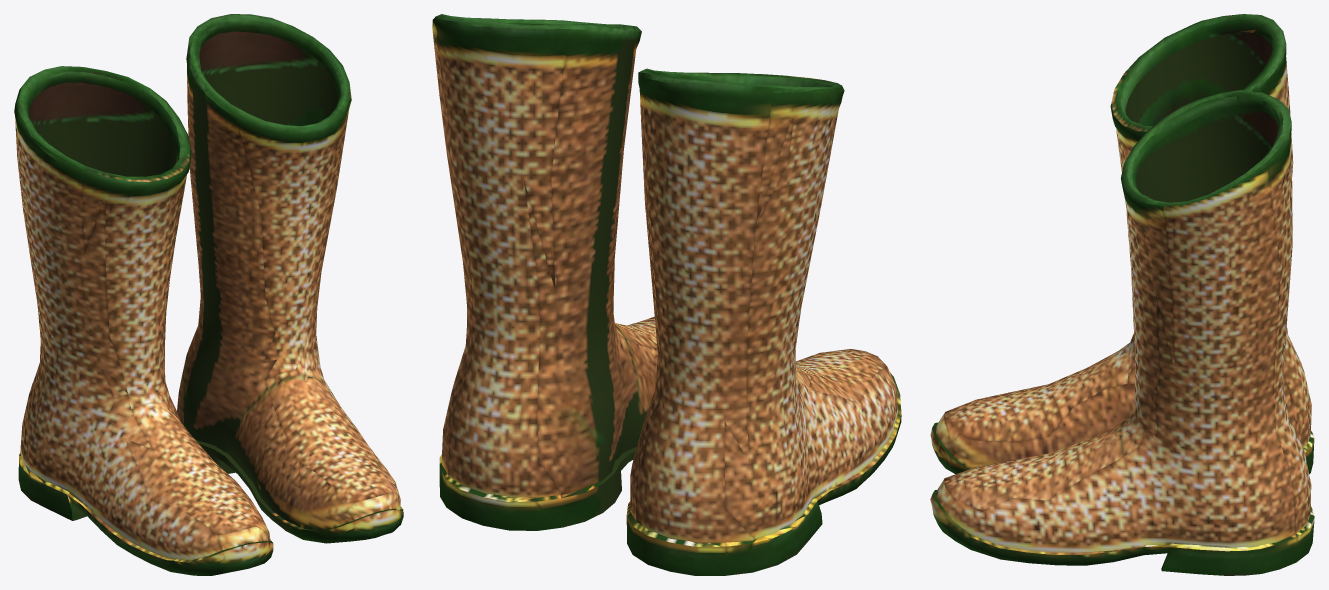
File: item_mm9_10238.glb
The picture shows the model from 3 angles, left to right: view 1: azimuth 30°, elevation 25°; view 2: azimuth 150°, elevation 25°; view 3: azimuth 270°, elevation 25°; orthographic projection. The views are drawn at different scales.
Visible parts, largest first — view 1: d10238; view 2: d10238; view 3: d10238.
Boxes of the visible parts, x1,y1,x2,y2 form: d10238: (14, 14, 403, 575); d10238: (432, 14, 901, 575); d10238: (930, 14, 1314, 575).
Bounding box in the file's own units: 0.8188 × 1 × 0.8128.
Materials: 1 (1 with a texture image).
